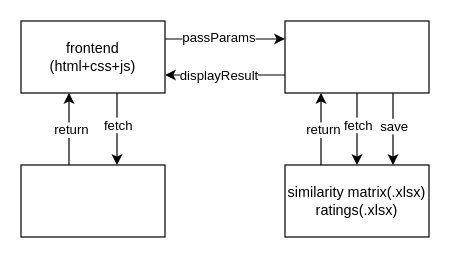
Some shapes in this 450 by 258 pixel diagram are drawn without their labels. Here are the shapes that lost their labels. From the top down, the centre of each, then its label:
the point at 356,56: API (python flask) get_next() save_rating()
the point at 92,200: accounts(.json) dataset(.json)
